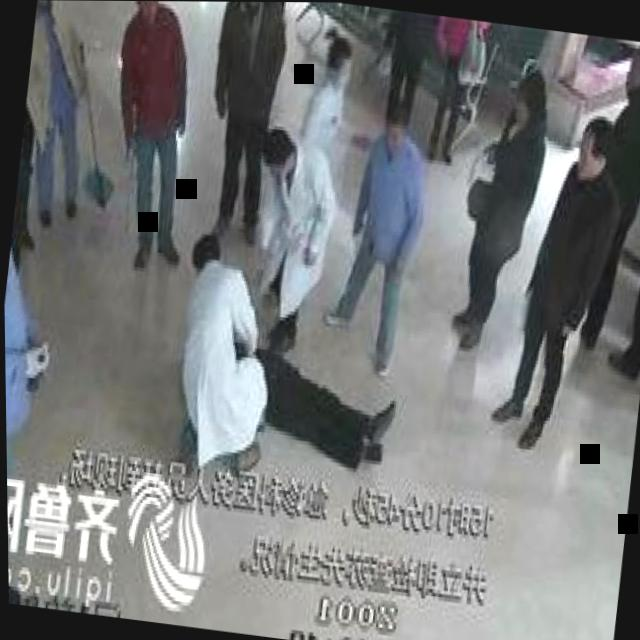Fall-Detected: (211, 317, 410, 473)
